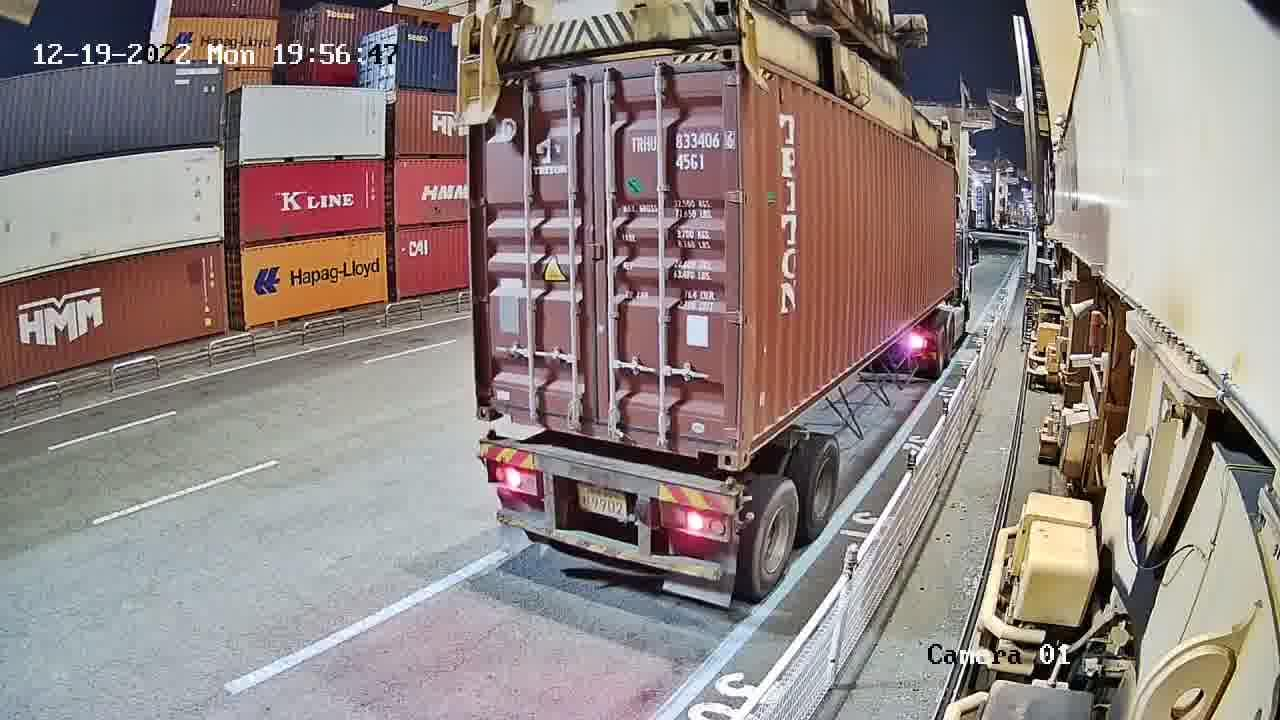Chassis: (479, 441, 735, 522)
Cone: (722, 475, 741, 513), (479, 427, 501, 443)
Hole_L: (740, 413, 762, 470), (477, 388, 513, 421)
Hole_R: (692, 422, 736, 472)
Tire: (755, 481, 798, 585), (808, 442, 841, 532)
